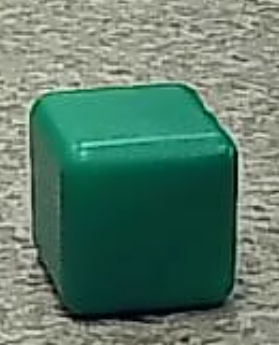green_cube: (18, 79, 243, 325)
